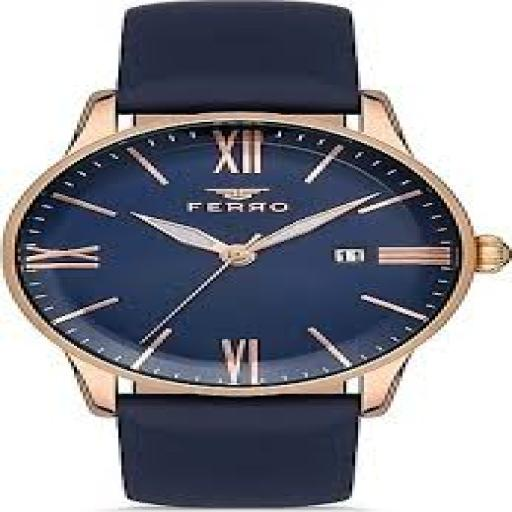KolSaati: (6, 2, 506, 508)
